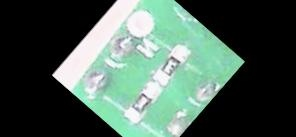chip-resistor: (147, 40, 196, 91), (119, 79, 165, 127)
